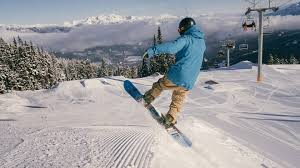snowboard: (121, 78, 194, 149)
